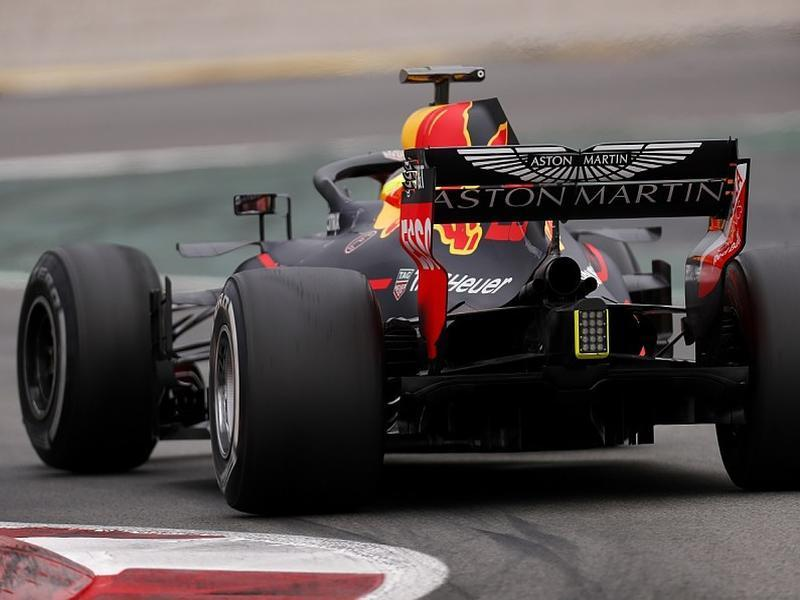f1: (15, 60, 800, 498)
